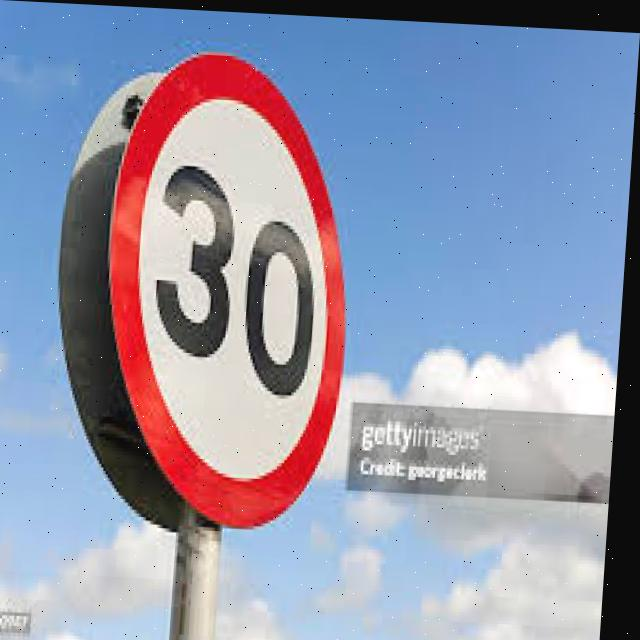Speed limit 30: (94, 40, 368, 534)
